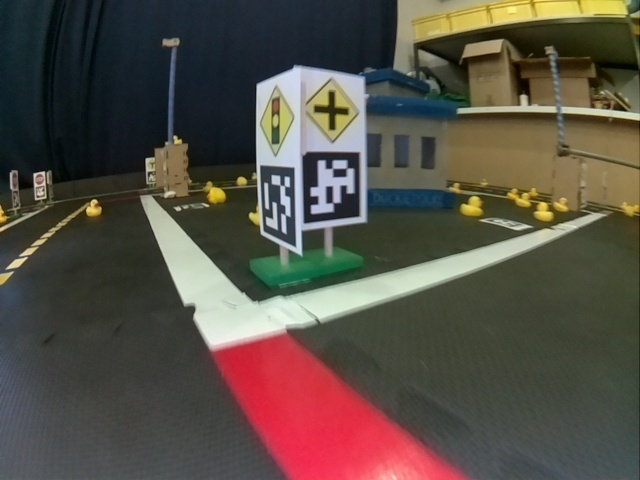Duckie: (533, 202, 553, 222), (462, 199, 481, 216), (209, 187, 227, 204), (85, 199, 101, 215), (516, 193, 531, 207), (554, 198, 568, 211), (507, 188, 518, 198), (449, 182, 459, 192)
Intersection sign: (304, 76, 361, 145)
QR code: (303, 152, 360, 224), (260, 164, 297, 248), (479, 216, 532, 230)
Signal sign: (257, 85, 298, 160)
